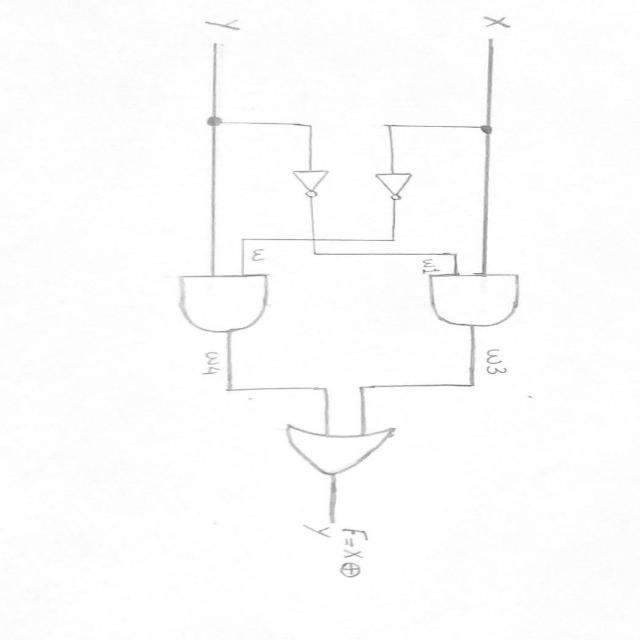AND: (161, 267, 292, 342), (424, 270, 530, 330)
NOT: (276, 162, 346, 206), (360, 164, 426, 206)
OR: (259, 416, 414, 480)
